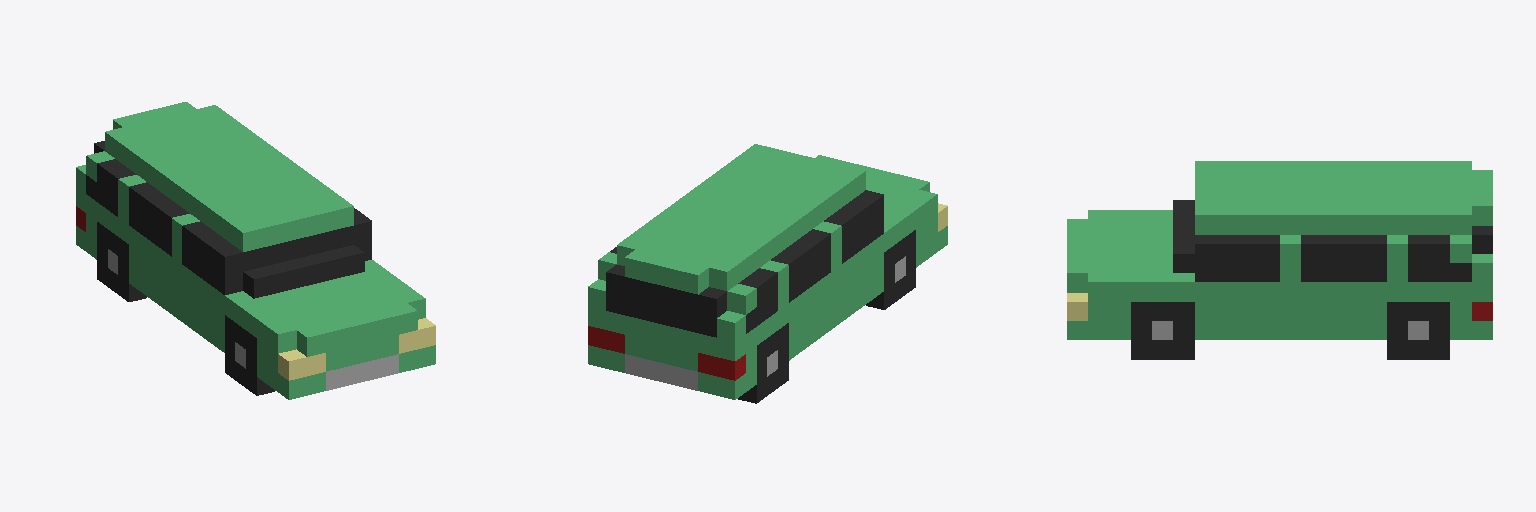
3 views of the same model, side by side, from view 1: azimuth 30°, elevation 25°; view 2: azimuth 150°, elevation 25°; view 3: azimuth 270°, elevation 25° (orthographic).
Parts seen in each view (by area): view 1: object 1; view 2: object 1; view 3: object 1.
Part boxes in pixels (left/top/right/bottom): object 1: left=76, top=102, right=435, bottom=399; object 1: left=588, top=144, right=947, bottom=403; object 1: left=1067, top=161, right=1492, bottom=359.
Size of the model in its own units: 0.8 by 0.7 by 2.
Materials: 1 (1 with a texture image).